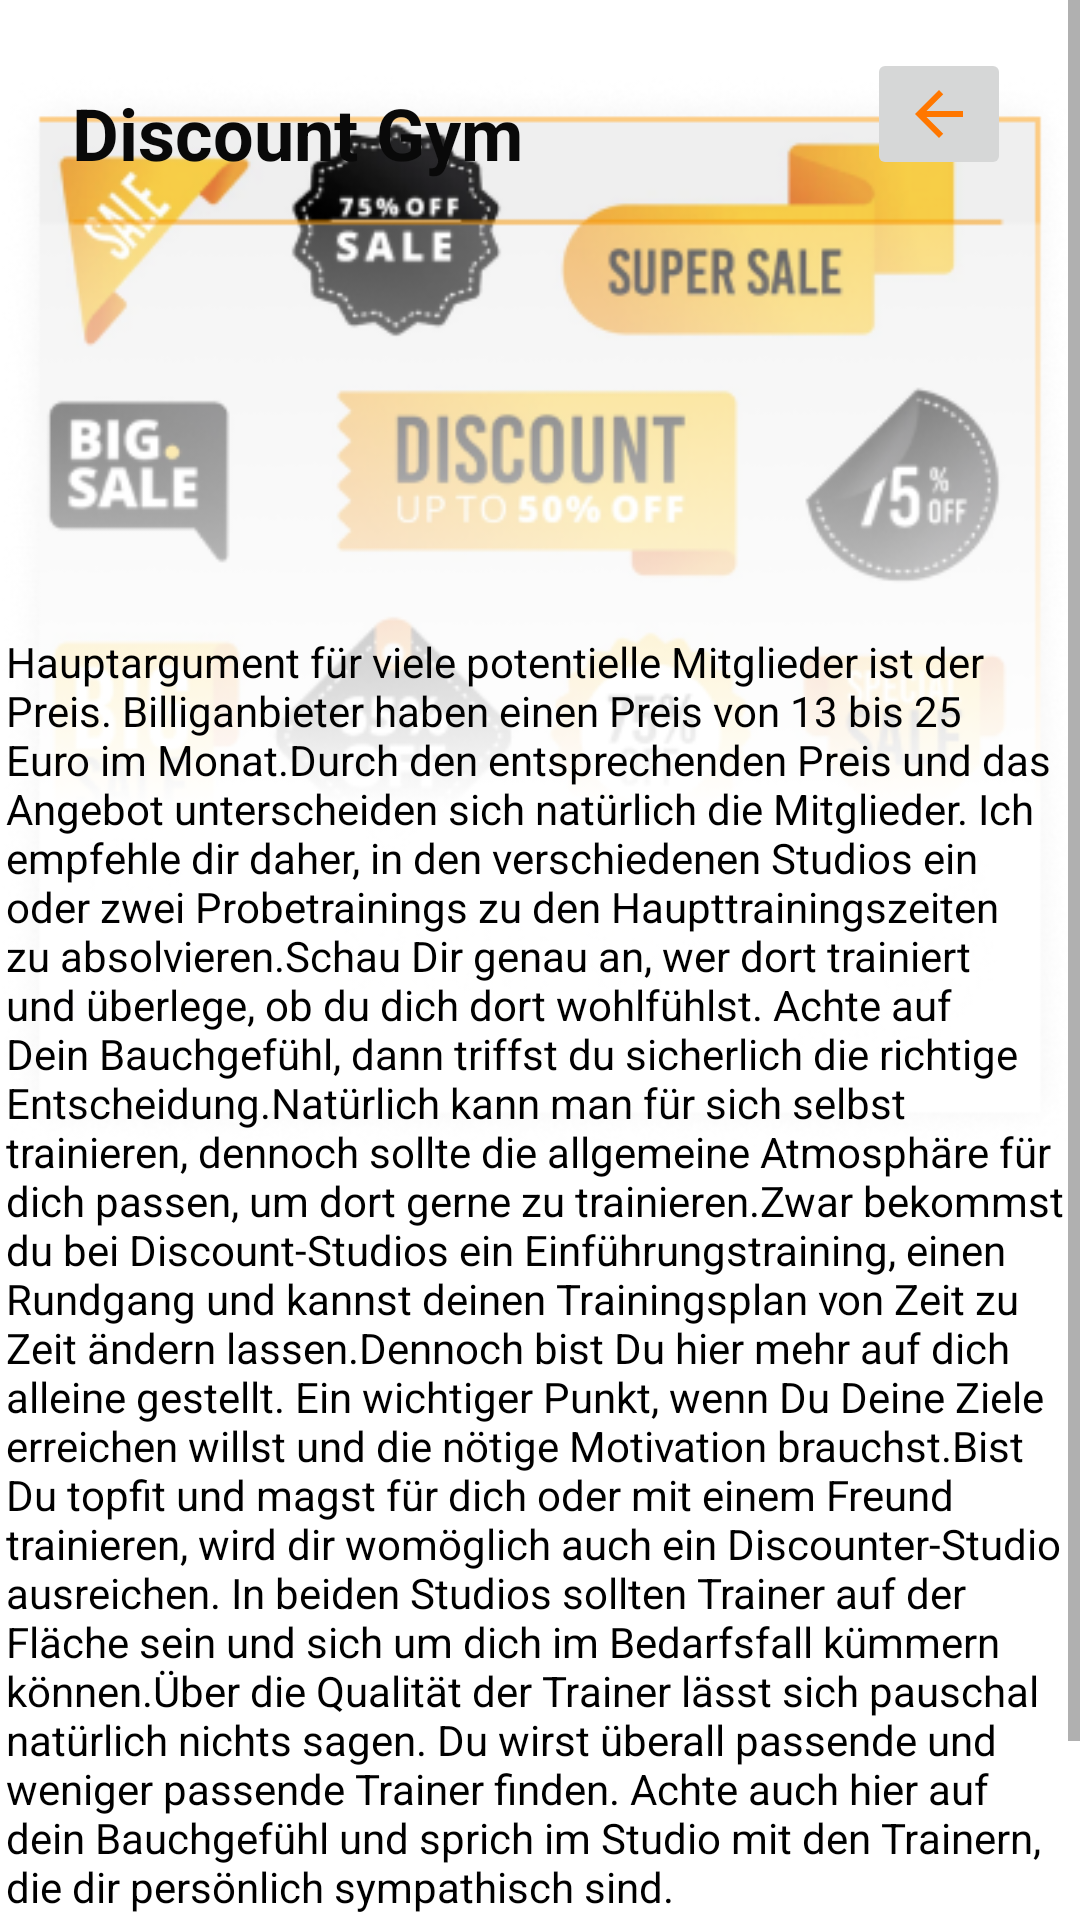

Icons on this 1080 × 1920 Android screen, each with the point to tap as (x,y):
arrow back: (939,123)
